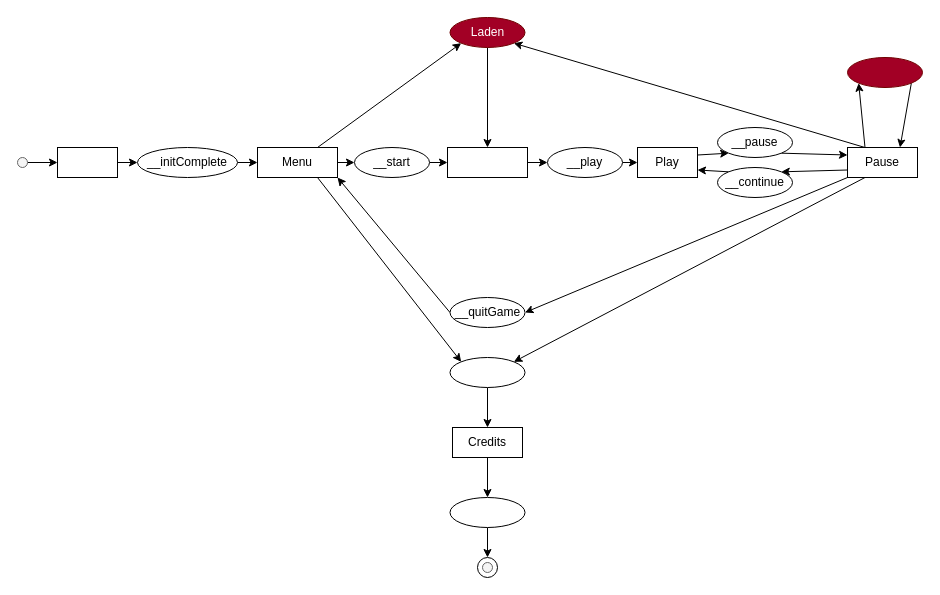
Some shapes in this 940 by 595 pixel diagram are drawn without their labels. The centre of each missing label's shape, as x and y in pixels:
__close: point 487,512
__quit: point 487,372
Init: point 87,162
Loading: point 487,162
Speichern: point 884,72
